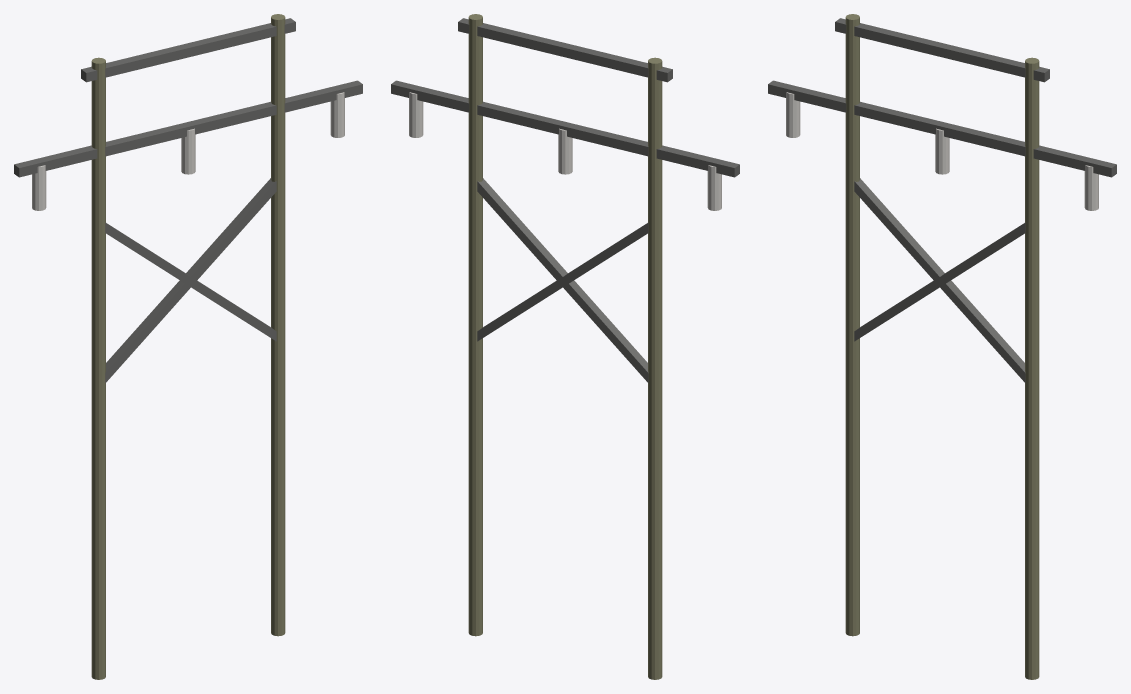
Rendered from lp_powerlineMediam(Colour).fbx.
3 views of the same model, side by side, from view 1: azimuth 30°, elevation 25°; view 2: azimuth 150°, elevation 25°; view 3: azimuth 330°, elevation 25° (orthographic).
Parts seen in each view (by area): view 1: Cylinder.000, Cylinder.007, Cube, Cube.003, Cube.001, Cube.002, Cylinder.002, Cylinder.003, Cylinder.001; view 2: Cylinder.000, Cylinder.007, Cube, Cube.003, Cube.001, Cube.002, Cylinder.002, Cylinder.003, Cylinder.001; view 3: Cylinder.007, Cylinder.000, Cube, Cube.002, Cube.001, Cube.003, Cylinder.001, Cylinder.003, Cylinder.002.
Part boxes in pixels (x1,y1,x2,y2): Cylinder.000: (91, 57, 105, 679); Cylinder.007: (271, 14, 285, 636); Cube: (14, 80, 362, 177); Cube.003: (105, 178, 276, 382); Cube.001: (81, 18, 295, 82); Cube.002: (105, 223, 276, 341); Cylinder.002: (32, 165, 46, 210); Cylinder.003: (181, 128, 195, 174); Cylinder.001: (330, 92, 344, 137); Cylinder.000: (648, 57, 662, 679); Cylinder.007: (468, 14, 482, 636); Cube: (391, 80, 739, 177); Cube.003: (477, 178, 648, 382); Cube.001: (458, 18, 672, 82); Cube.002: (477, 223, 648, 341); Cylinder.002: (707, 165, 721, 210); Cylinder.003: (558, 128, 572, 174); Cylinder.001: (409, 92, 423, 137); Cylinder.007: (1025, 57, 1039, 679); Cylinder.000: (845, 14, 859, 636); Cube: (768, 80, 1116, 177); Cube.002: (854, 178, 1025, 382); Cube.001: (835, 18, 1049, 82); Cube.003: (854, 223, 1025, 341); Cylinder.001: (1084, 165, 1098, 210); Cylinder.003: (935, 128, 949, 174); Cylinder.002: (786, 92, 800, 137).
Bounding box in the file's own units: 838 × 1435 × 30.25.
